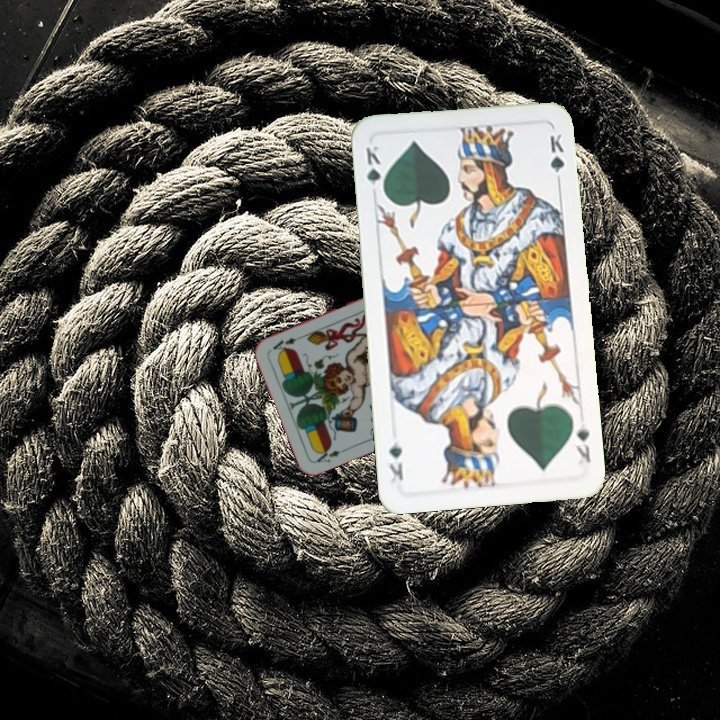EA: (313, 443, 351, 465)
GK: (362, 141, 387, 198), (572, 420, 593, 466)
